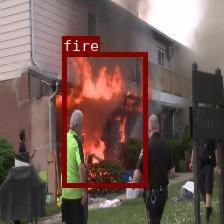fire: (62, 52, 146, 186)
